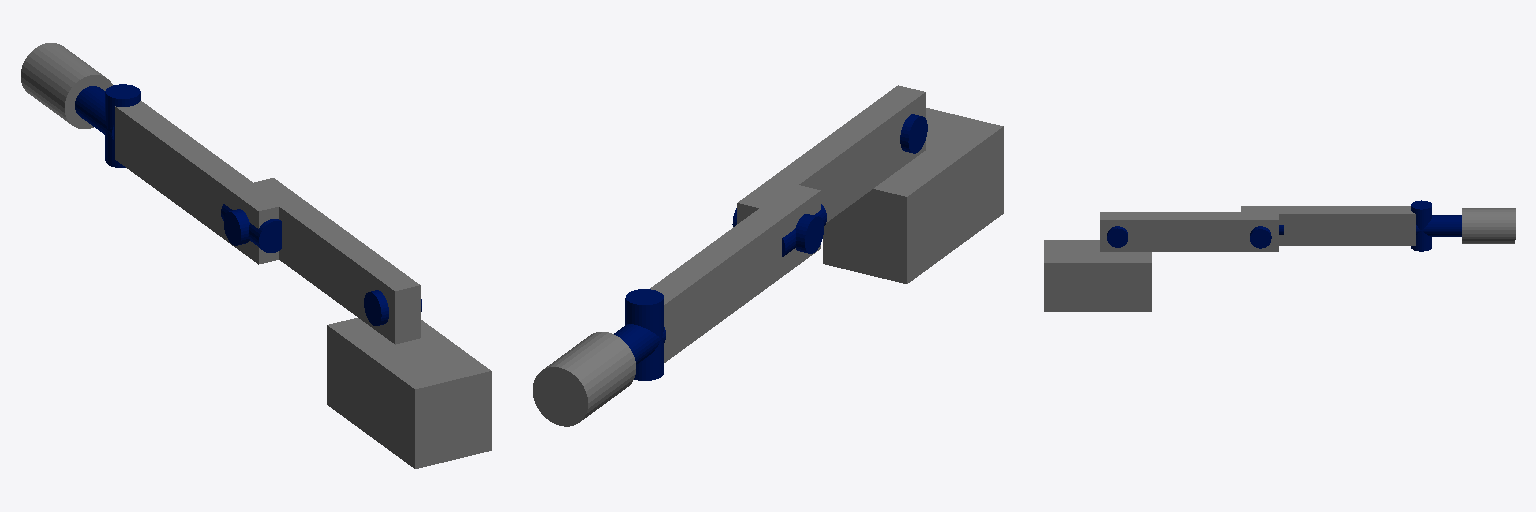
URDF robot description (full_arm_robot):
<?xml version="1.0"?><robot name="full_arm_robot">
  	<material name="grey">
      <color rgba="0.5 0.5 0.5 1"/>
  	</material>
  
  	<material name="blue">
      <color rgba="0 0.1 0.4 1"/>
  	</material>
  
	<link name="base_link">
  		<visual>
          <geometry>
            <box size="0.15 0.3 0.15"/>
          </geometry>
          <origin xyz="0 -0.4 0"/>
          <material name="grey"/>
  		</visual>
  	</link>

	<link name="rotate_1">
		<visual>
          <geometry>
            <cylinder length="0.08" radius="0.03"/>
          </geometry>
          <origin rpy="0 1.57 0" xyz="0 0 0"/>
          <material name="blue"/>
        </visual>  
	</link>

	<link name="upper_arm">
		<visual>
          <geometry>
            <box size="0.05 0.5 0.1"/>
          </geometry>
          <origin xyz="0 0.20 0" rpy="0 0 0"/>
          <material name="grey"/>
		</visual>
	</link>

	<link name="rotate_2">
		<visual>
          <geometry>
            <cylinder length="0.13" radius="0.03"/>
          </geometry>
          <origin rpy="0 1.57 0" xyz="0 0 0"/>
          <material name="blue"/>
		</visual>
	</link>
	
	<link name="rotate_3">
		<visual>
          <geometry>
            <cylinder length="0.13" radius="0.03"/>
          </geometry>
          <origin rpy="1.57 0 0" xyz="-0.02 0 0"/>
          <material name="blue"/>
		</visual>
	</link>

	<link name="forearm">
		<visual>
          <geometry>
            <box size="0.05 0.5 0.1"/>
          </geometry>
          <origin xyz="0 0.195 0" rpy="0 0 0"/>
          <material name="grey"/>
		</visual>
	</link>
	
	<link name="rotate_4">
		<visual>
          <geometry>
            <cylinder length="0.13" radius="0.03"/>
          </geometry>
          <origin rpy="0 0 0" xyz="0 0 0"/>
          <material name="blue"/>
		</visual>
	</link>
	
	<link name="rotate_5">
		<visual>
          <geometry>
            <cylinder length="0.13" radius="0.03"/>
          </geometry>
          <origin xyz="0 0 0" rpy="1.57 0 0"/>
          <material name="blue"/>
		</visual>
	</link>
	
	<link name="end_effector">
		<visual>
          <geometry>
            <cylinder length="0.15" radius="0.05"/>
          </geometry>
          <origin xyz="0 -0.075 0" rpy="1.57 0 0"/>
          <material name="grey"/>
		</visual>
	</link>

	<!--link name="wrist">
		<visual>
          <geometry>
            <cylinder length="0.17" radius="0.075"/>
          </geometry>
          <origin xyz="-0.03 0.35 0" rpy="1.57 0 0"/>
          <material name="blue"/>
		</visual>
	</link-->
	
	<!-- Joints -->
	
	<joint name="Joint_1" type="continuous">
      	<parent link="base_link"/>
      	<child link="rotate_1"/>
		<origin xyz="0 -0.345 0.135" rpy="0 0 0"/>
      	<axis xyz="0 0 1"/>
	</joint>
	
	<joint name="Joint_2" type="continuous">
		<parent link="rotate_1"/>
      <child link="upper_arm"/>
      <axis xyz="1 0 0"/>
	</joint>
	
	<joint name="Joint_3" type="continuous">
      <parent link="rotate_2"/>
    	<child link="rotate_3"/>
      	<limit effort="1000.0" lower="-0.3" upper="0.548" velocity="0.5"/>
      	<origin xyz="0 0 0" rpy="0 0 0"/>
        <axis xyz="1 0 0"/>
	</joint>
	
	<joint name="Joint_4" type="continuous">
		<parent link="rotate_3"/>
    	<child link="forearm"/>
      	<origin xyz="-0.02 0 0" rpy="0 0 0"/>
      	<limit effort="1000.0" lower="-1.34" upper="0.8" velocity="0.5"/>
        <axis xyz="0 1 0"/>
	</joint>
	
	<joint name="Joint_5" type="continuous">
		<parent link="forearm"/>
    	<child link="rotate_4"/>
      <origin xyz="0 0.45 0" rpy="0 0 0"/>
      <limit effort="1000.0" lower="-1.34" upper="0.8" velocity="0.5"/>
       <axis xyz="0 0 1"/>
	</joint>
	
	<joint name="Joint_6" type="continuous">
		<parent link="rotate_4"/>
    	<child link="rotate_5"/>
      <origin xyz="0 0.05 0" rpy="0 0 0"/>
      <limit effort="1000.0" lower="-1.34" upper="0.8" velocity="0.5"/>
       <axis xyz="0 1 0"/>
	</joint>
	
	<joint name="Joint_7" type="fixed">
		<parent link="rotate_5"/>
    	<child link="end_effector"/>
      <origin xyz="0 0.2125 0" rpy="0 0 0"/>
      <limit effort="1000.0" lower="-1.34" upper="0.8" velocity="0.5"/>
       <axis xyz="0 0 0"/>
	</joint>
	
	<!--joint name="forearm_to_rotate_2b" type="continuous">
      <parent link="upper_arm"/>
    	<child link="forearm"/>
      	<limit effort="1000.0" lower="-0.3" upper="0.548" velocity="0.5"/>
      	<origin xyz="-0.02 0.32 0.225" rpy="0 0 0"/>
        <axis xyz="0 1 0"/>
	</joint-->
	
	<!--joint name="joint_5" type="fixed">
      	<parent link="forearm"/>
      	<child link="wrist"/>
   </joint-->

	<!--joint name="upper_arm_to_rotate_1" type="continuous">
		<parent link="rotate_1"/>
      	<child link="upper_arm"/>
        <limit effort="1000.0" lower="-0.44" upper="2.54" velocity="0.5"/>
      	<origin xyz="0 -0.35 0.12" rpy="0 0 0"/>
      	<axis xyz="1 0 0"/>
	</joint-->
	
	<joint name="joint_1c" type="fixed">
		<parent link="upper_arm"/>
      	<child link="rotate_2"/>
      	<origin rpy="0 0 0" xyz="-0.02 0.4 0"/>
	</joint>

</robot>

--- What the picture shows (computed from the rendered views, not written in the file) ---
3 views of the same robot in one strip: view 1: azimuth 30°, elevation 25°; view 2: azimuth 150°, elevation 25°; view 3: azimuth 270°, elevation 25° (orthographic).
Model full_arm_robot with 9 links and 8 joints (6 continuous, 2 fixed), rooted at base_link, posed every joint at zero.
Links seen in each view (by area): view 1: base_link, forearm, upper_arm, end_effector, rotate_4, rotate_5, rotate_3, rotate_2, rotate_1; view 2: base_link, forearm, upper_arm, end_effector, rotate_4, rotate_5, rotate_2, rotate_1; view 3: base_link, upper_arm, forearm, end_effector, rotate_5, rotate_4.
Link boxes in pixels (box(x1,y1,x2,y2)): base_link: box(327, 318, 491, 468); forearm: box(115, 101, 281, 264); upper_arm: box(250, 178, 420, 344); end_effector: box(21, 43, 112, 128); rotate_4: box(105, 84, 140, 167); rotate_5: box(75, 86, 113, 139); rotate_3: box(221, 204, 281, 252); rotate_2: box(224, 209, 249, 245); rotate_1: box(364, 290, 421, 325); base_link: box(823, 108, 1003, 283); forearm: box(650, 185, 820, 362); upper_arm: box(737, 85, 925, 223); end_effector: box(533, 332, 635, 426); rotate_4: box(625, 289, 663, 380); rotate_5: box(614, 324, 665, 364); rotate_2: box(732, 208, 823, 253); rotate_1: box(900, 114, 927, 153); base_link: box(1044, 240, 1151, 311); upper_arm: box(1100, 212, 1278, 251); forearm: box(1241, 206, 1415, 245); end_effector: box(1462, 208, 1515, 243); rotate_5: box(1416, 215, 1461, 236); rotate_4: box(1411, 200, 1431, 251).
Bounding box of the posed robot: 0.165 × 1.32 × 0.275 m (x, y, z).
Geometry: primitives only (box / cylinder / sphere), no mesh files.